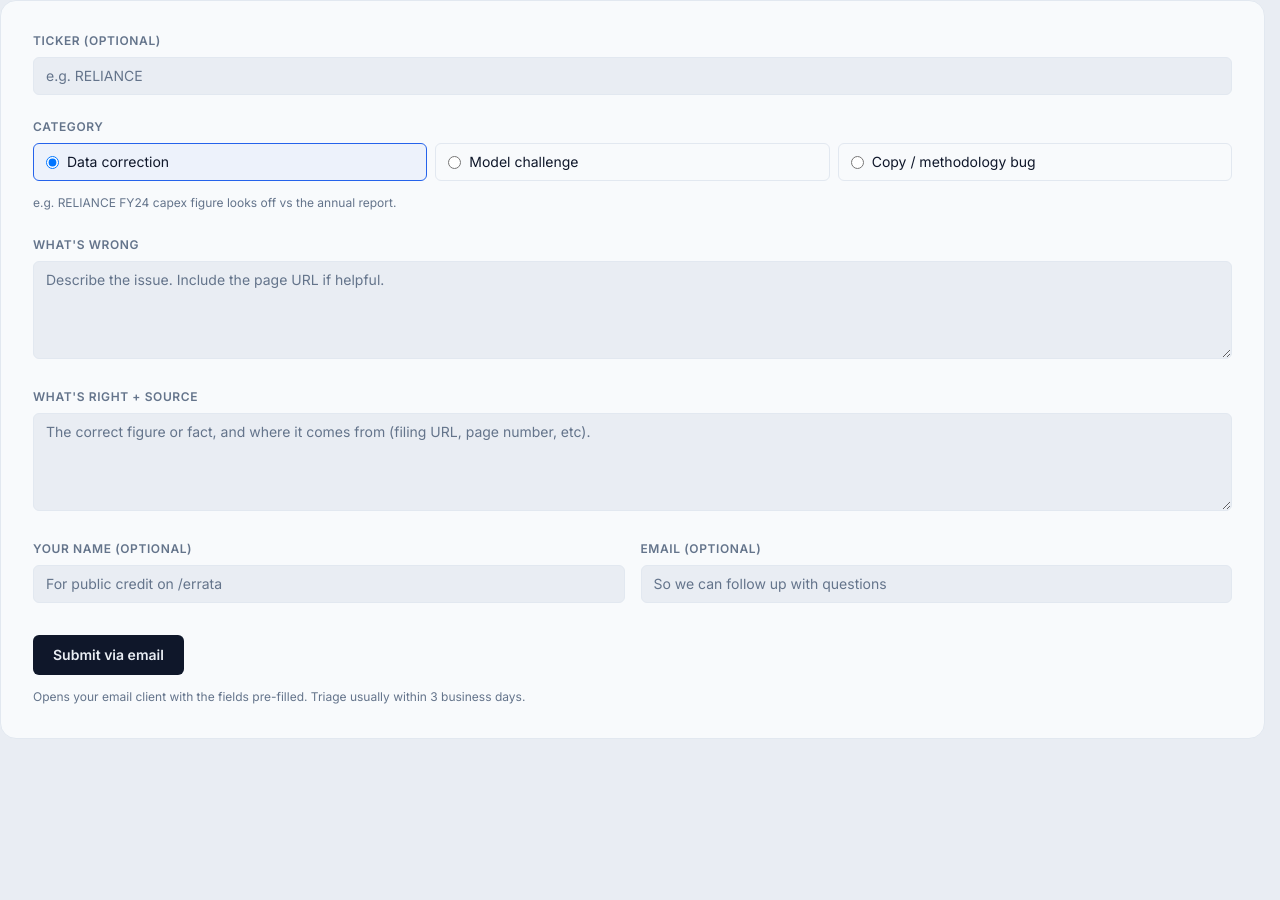
DisputeForm — category selection updates example caption › changes the displayed example when a different category is selected
Expected: the text with test id "category-example" reads "e.g. RELIANCE FY24 capex figure looks off vs the annual report.", [33,195,396,210]
Click the radio button named "dispute-category" at {"x": 455, "y": 162}, box [448,156,461,169]
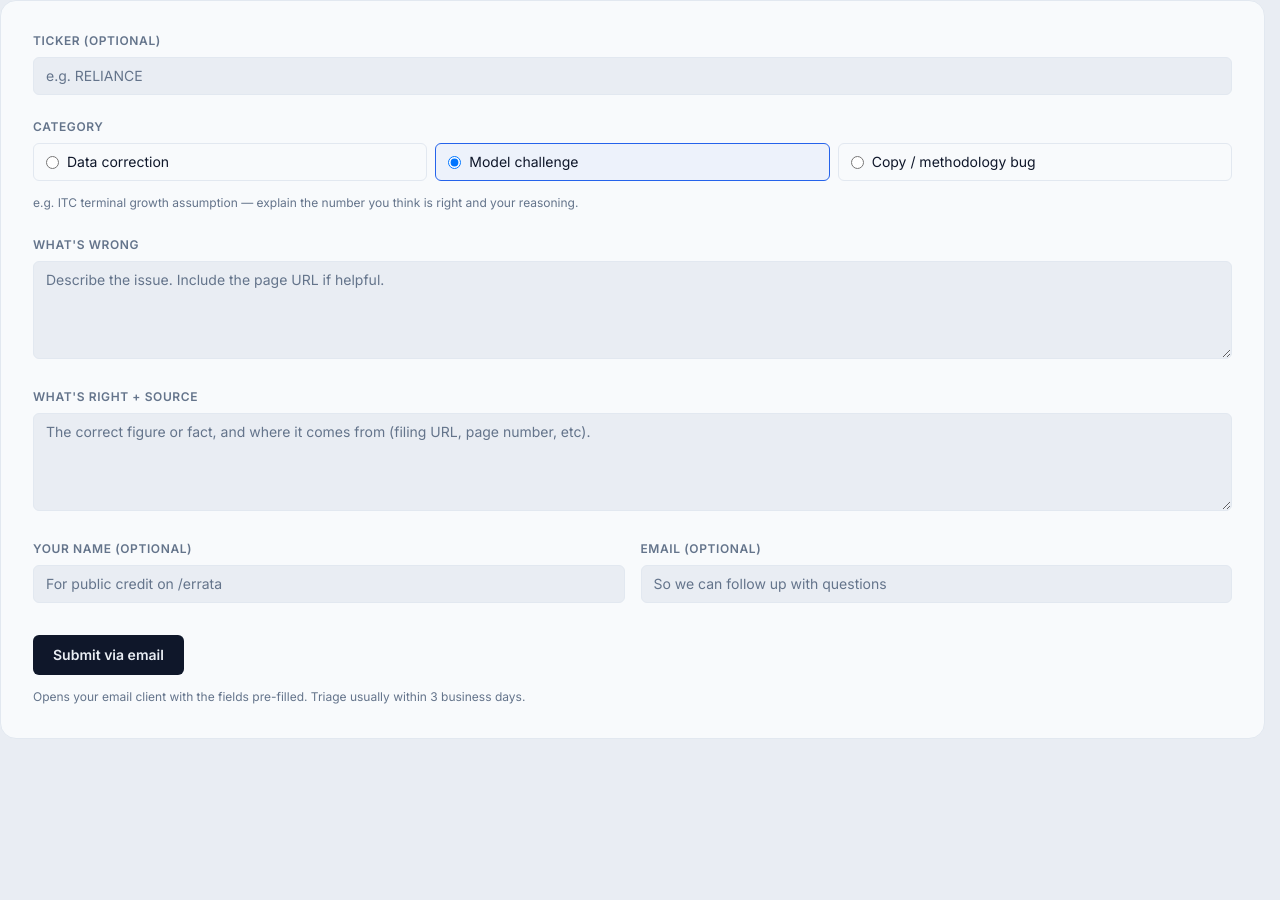
Expected: the text with test id "category-example" shows "e.g. ITC terminal growth assumption — explain the number you think is right and your reasoning.", [33,195,578,210]
Click the radio button named "dispute-category" at {"x": 857, "y": 162}, box [851,156,864,169]
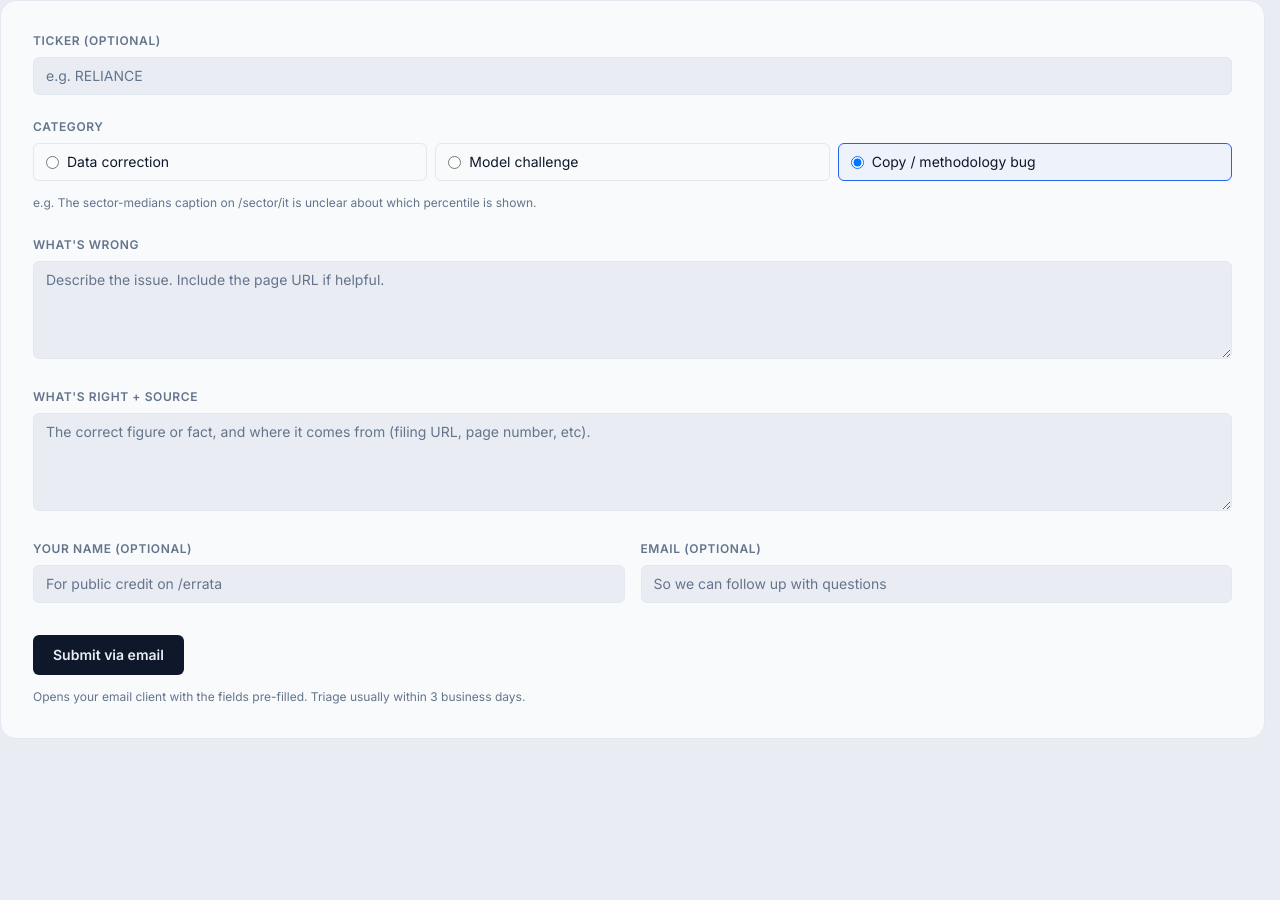
Expected: the text with test id "category-example" shows "e.g. The sector-medians caption on /sector/it is unclear about which percentile is shown.", [33,195,536,210]
